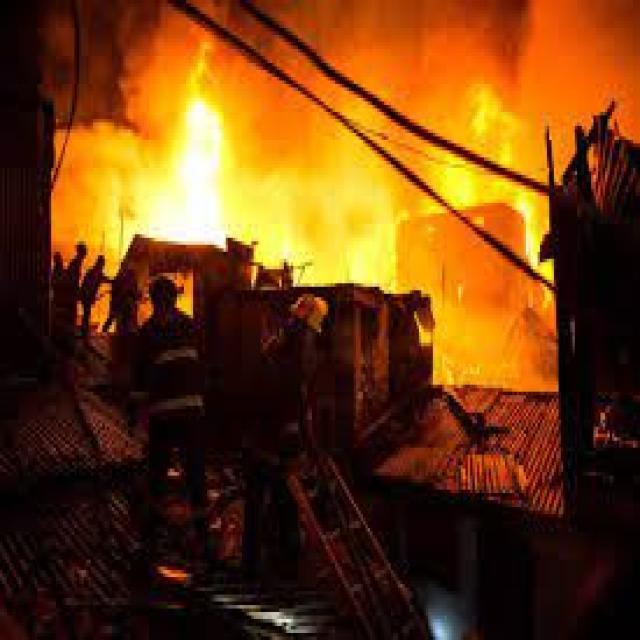Fire: (170, 136, 238, 246)
Smoke: (140, 1, 640, 157)
